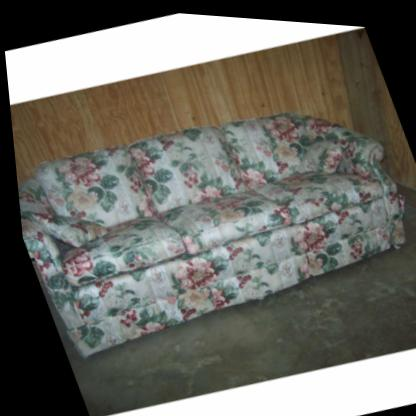Sofa: (5, 63, 416, 382)
